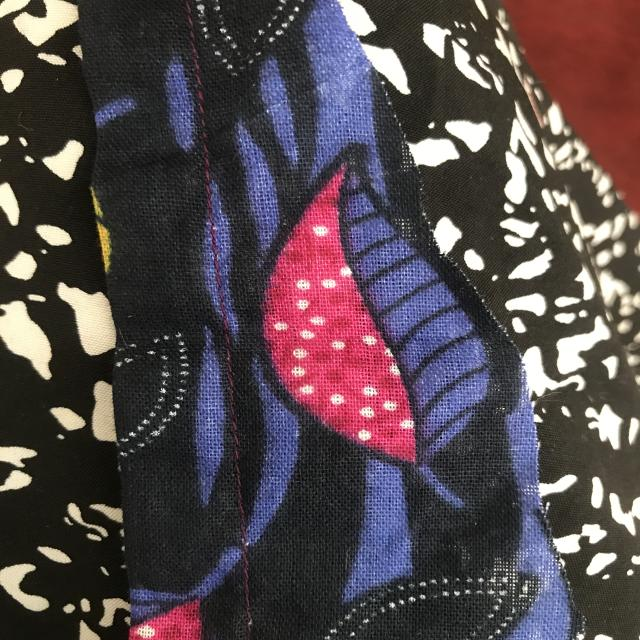good: (176, 72, 228, 254), (210, 372, 261, 546)
